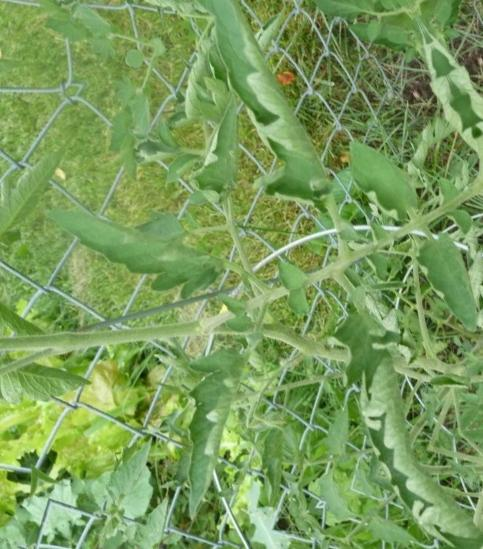Tomato mold leaf: (183, 0, 352, 226), (43, 147, 227, 340), (307, 287, 443, 471), (335, 116, 441, 239), (411, 224, 483, 340)
